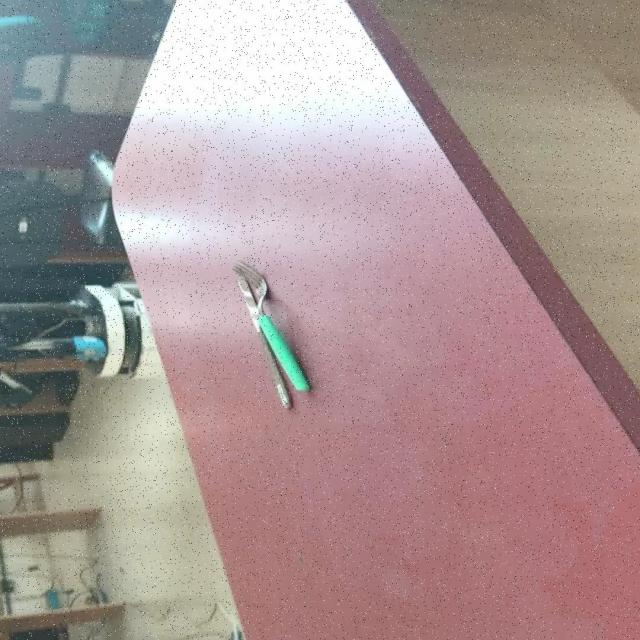Fork: (233, 258, 297, 408)
Knife: (233, 258, 312, 408)
